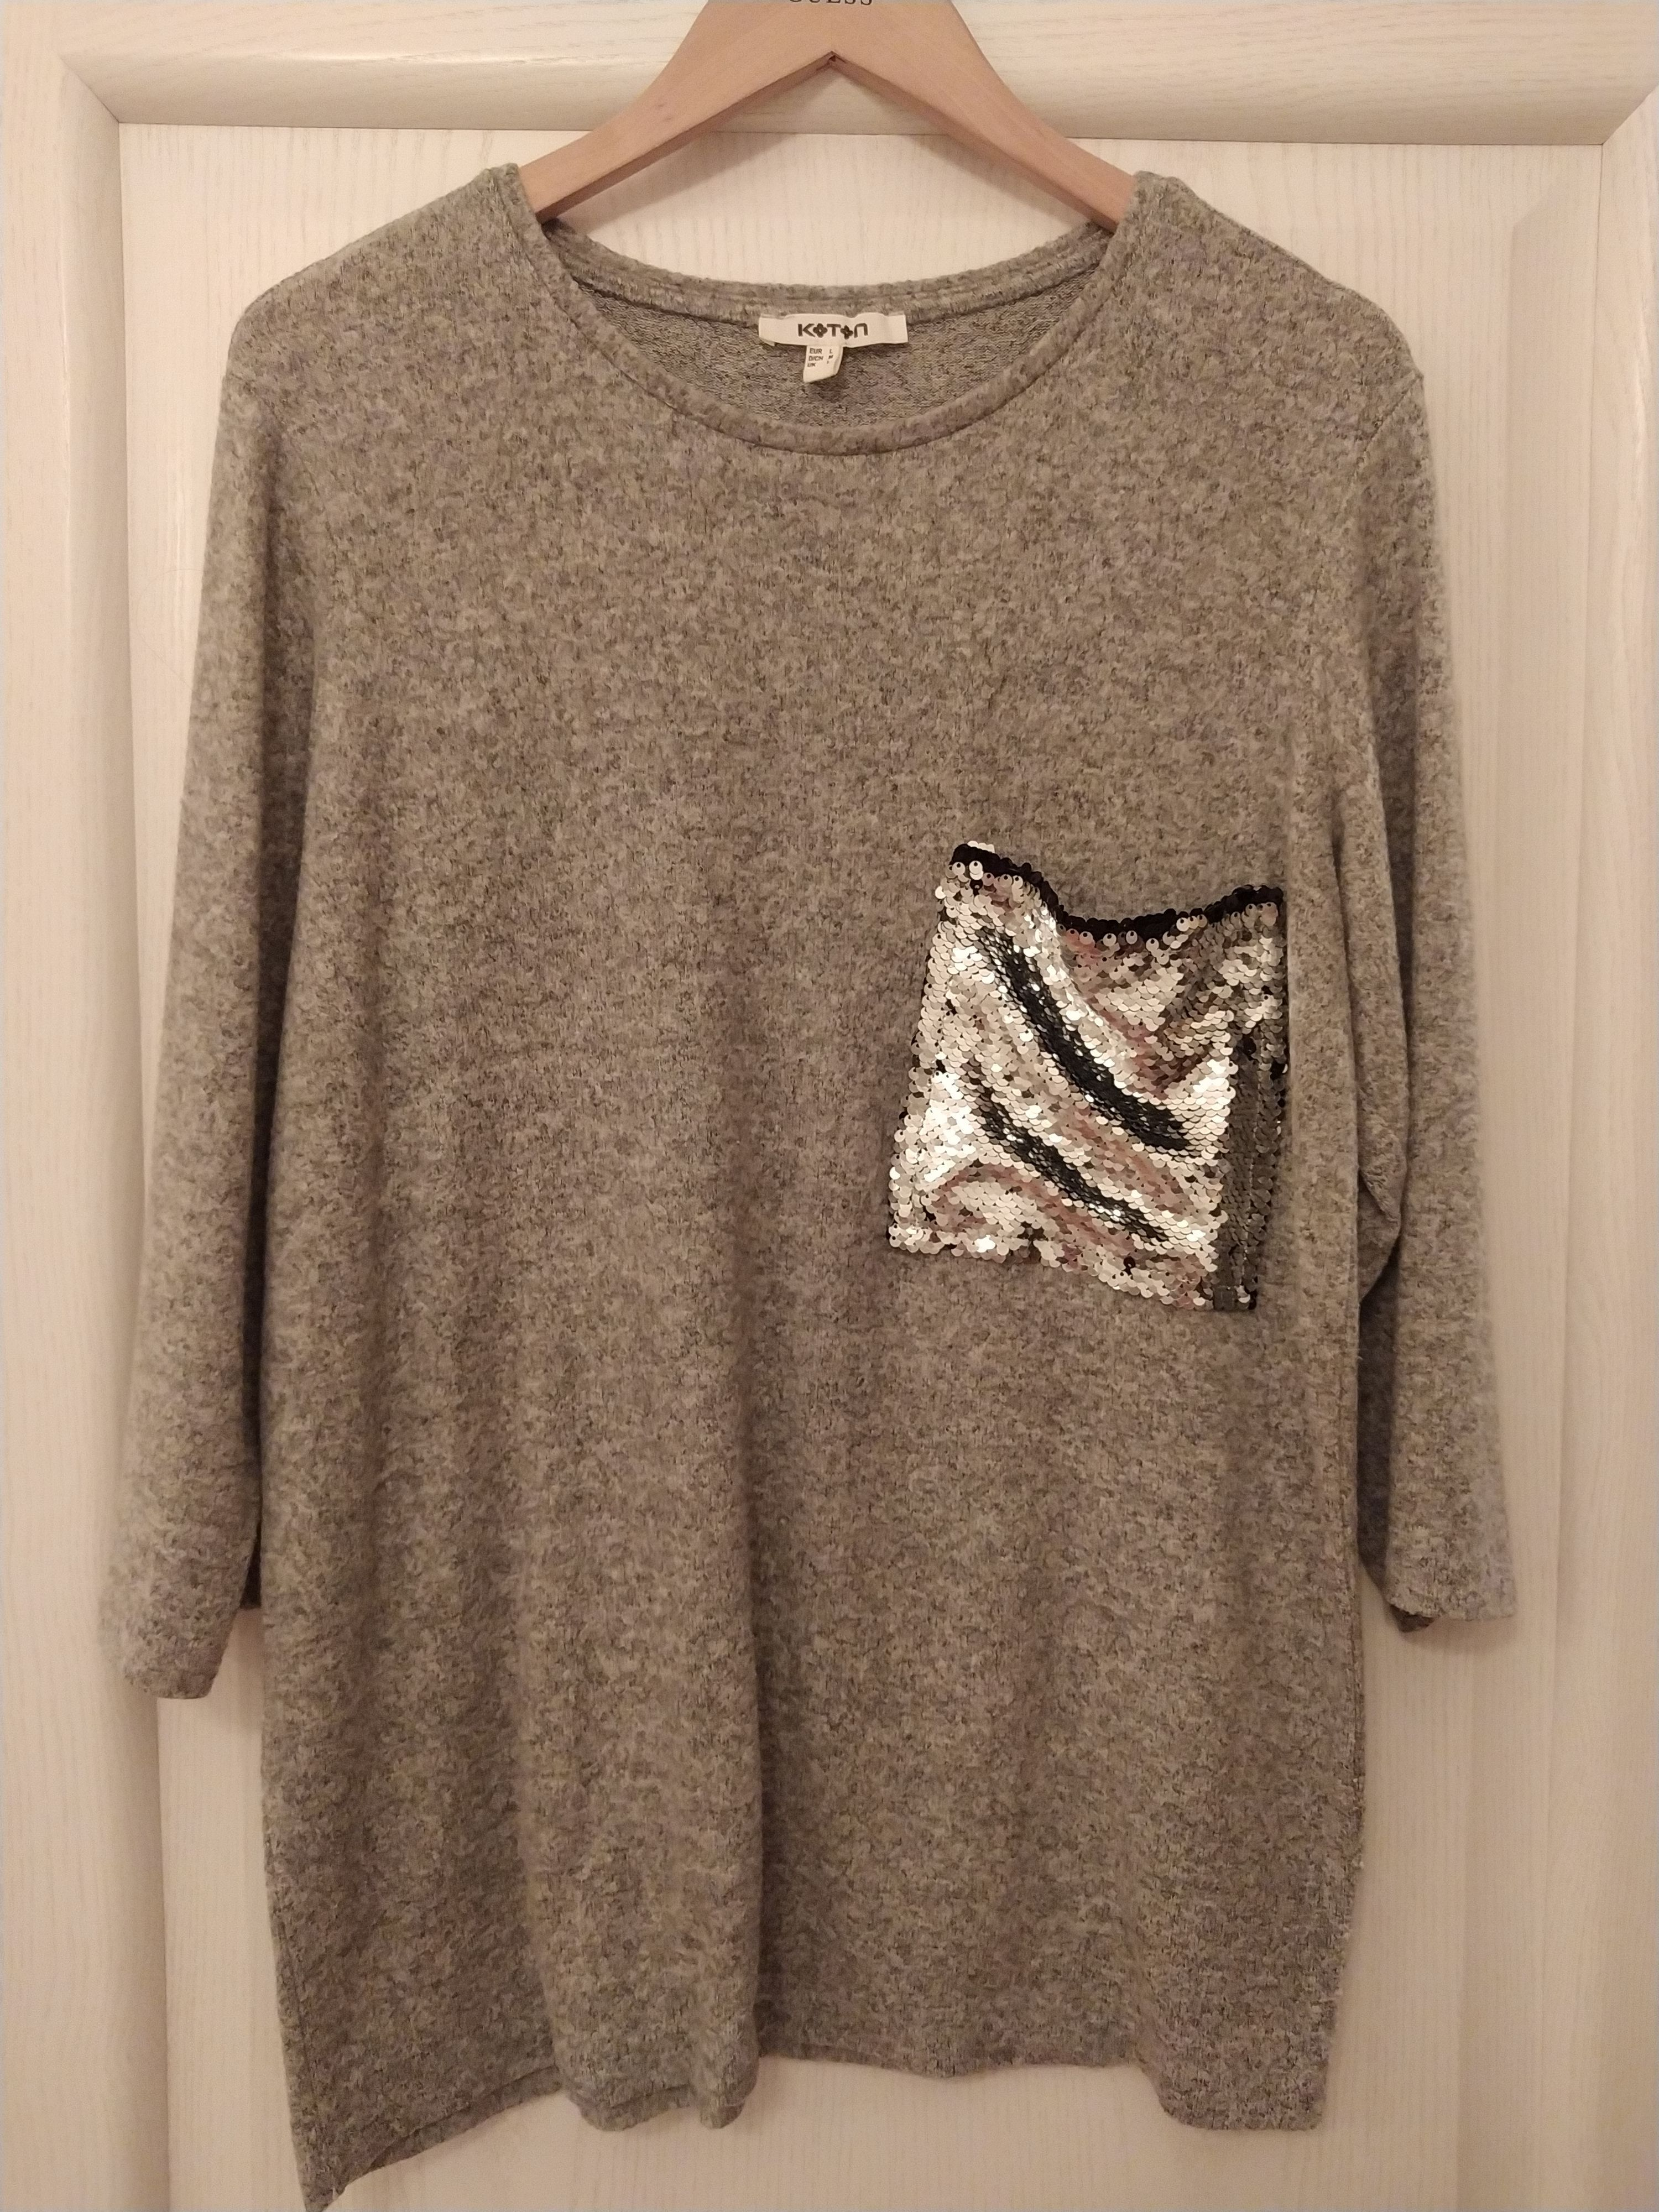clothes: (99, 171, 1537, 2207)
